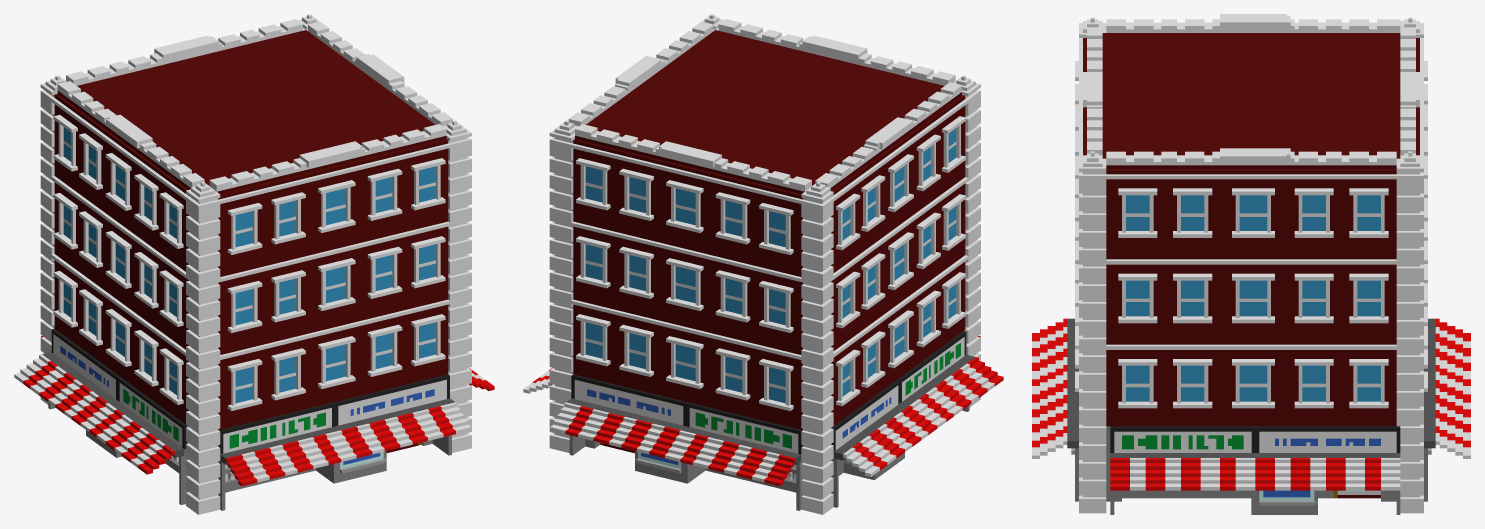
The model's file is obj_store07_Red red.obj.
3 renders of one model, left to right at view 1: azimuth 30°, elevation 25°; view 2: azimuth 150°, elevation 25°; view 3: azimuth 270°, elevation 25°, orthographic. The views are drawn at different scales.
Size of the model in its own units: 11.2 by 10 by 11.2.
Materials: 1 (1 with a texture image).
